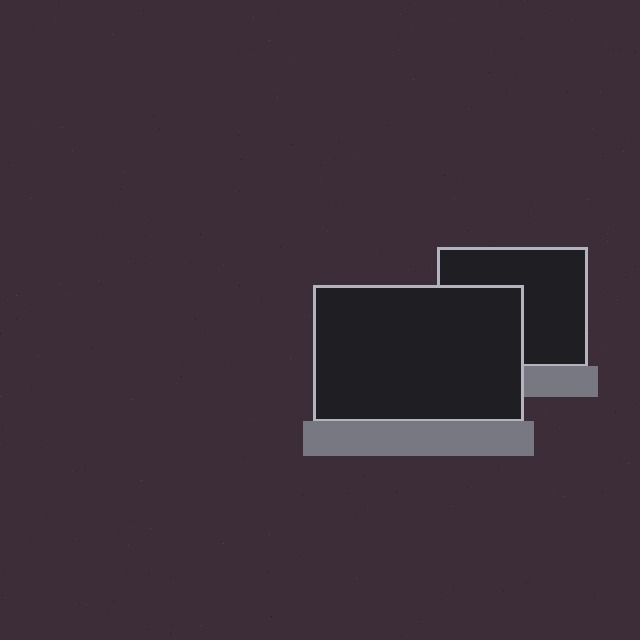laptop: (313, 285, 523, 455), (437, 247, 587, 396)
